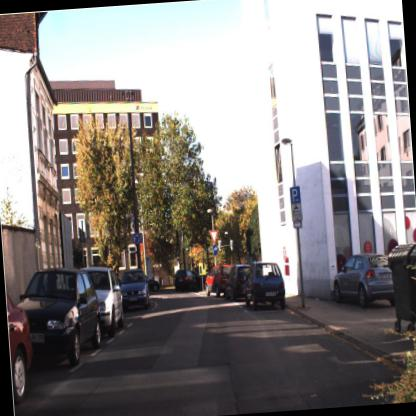mandatory: (211, 244, 221, 260)
other: (206, 227, 221, 245)
